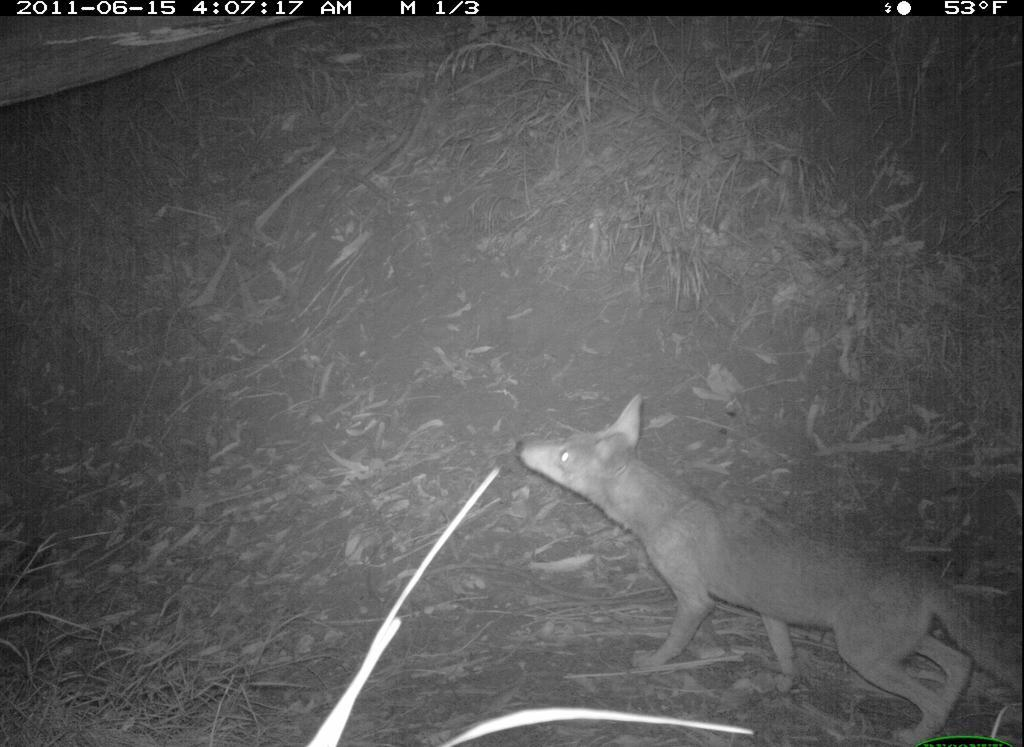coyote: (502, 396, 1023, 747)
